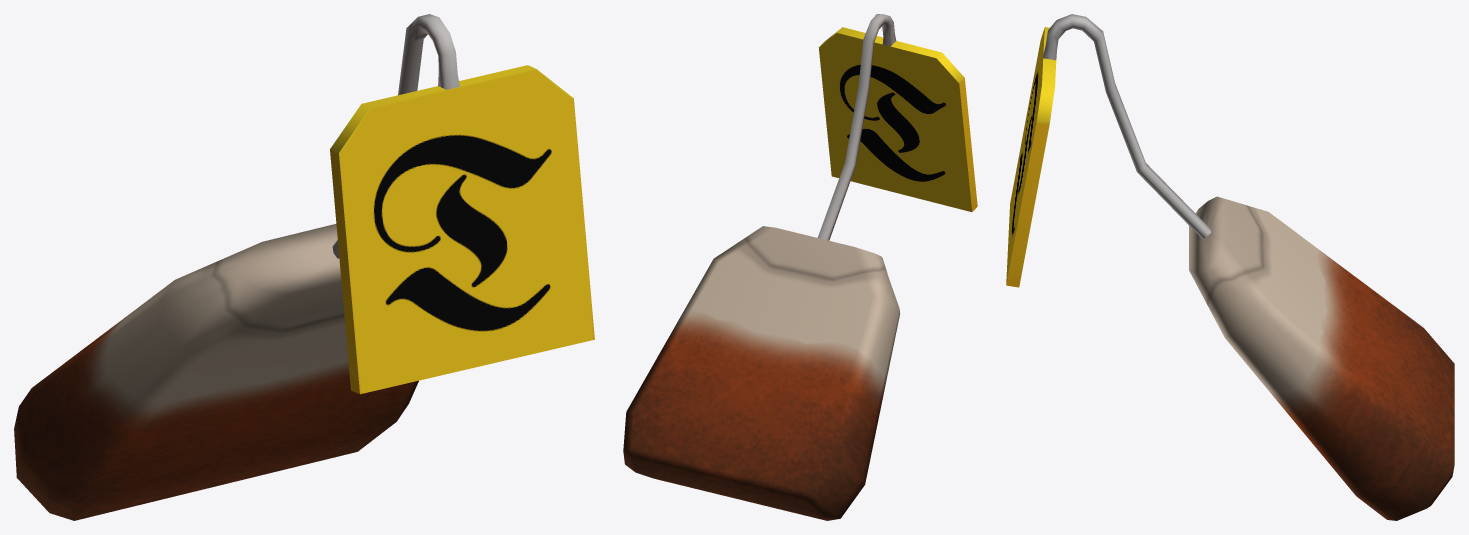
File: Teacup_01_TeaBag_03.fbx
3 renders of one model, left to right at view 1: azimuth 30°, elevation 25°; view 2: azimuth 150°, elevation 25°; view 3: azimuth 270°, elevation 25°, orthographic. The views are drawn at different scales.
Visible parts, largest first — view 1: Teacup_01_TeaBag_03; view 2: Teacup_01_TeaBag_03; view 3: Teacup_01_TeaBag_03.
Part boxes in pixels (x1,y1,x2,y2): Teacup_01_TeaBag_03: [14, 14, 594, 520]; Teacup_01_TeaBag_03: [623, 14, 977, 520]; Teacup_01_TeaBag_03: [1006, 14, 1454, 520].
Size of the model in its own units: 16.07 by 25.27 by 22.64.
